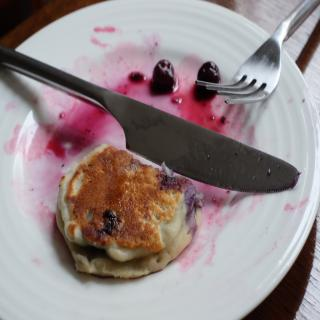Pancake: (56, 158, 204, 273)
